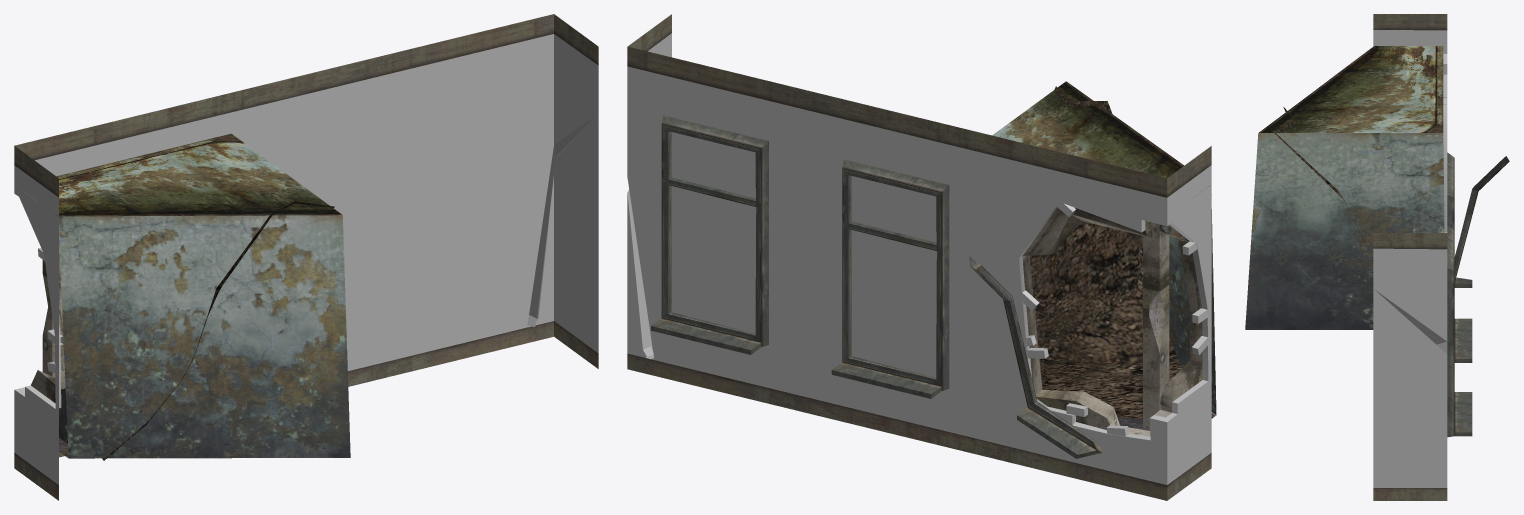
File: Store_front_8_B.fbx
3 renders of one model, left to right at view 1: azimuth 30°, elevation 25°; view 2: azimuth 150°, elevation 25°; view 3: azimuth 270°, elevation 25°, orthographic. The views are drawn at different scales.
Parts seen in each view (by area): view 1: Store_front_8_B; view 2: Store_front_8_B; view 3: Store_front_8_B.
Boxes of the visible parts, left/top/right/bottom form: Store_front_8_B: left=14, top=14, right=598, bottom=500; Store_front_8_B: left=627, top=14, right=1216, bottom=500; Store_front_8_B: left=1245, top=14, right=1509, bottom=500.
Bounding box in the file's own units: 700 × 400 × 358.
